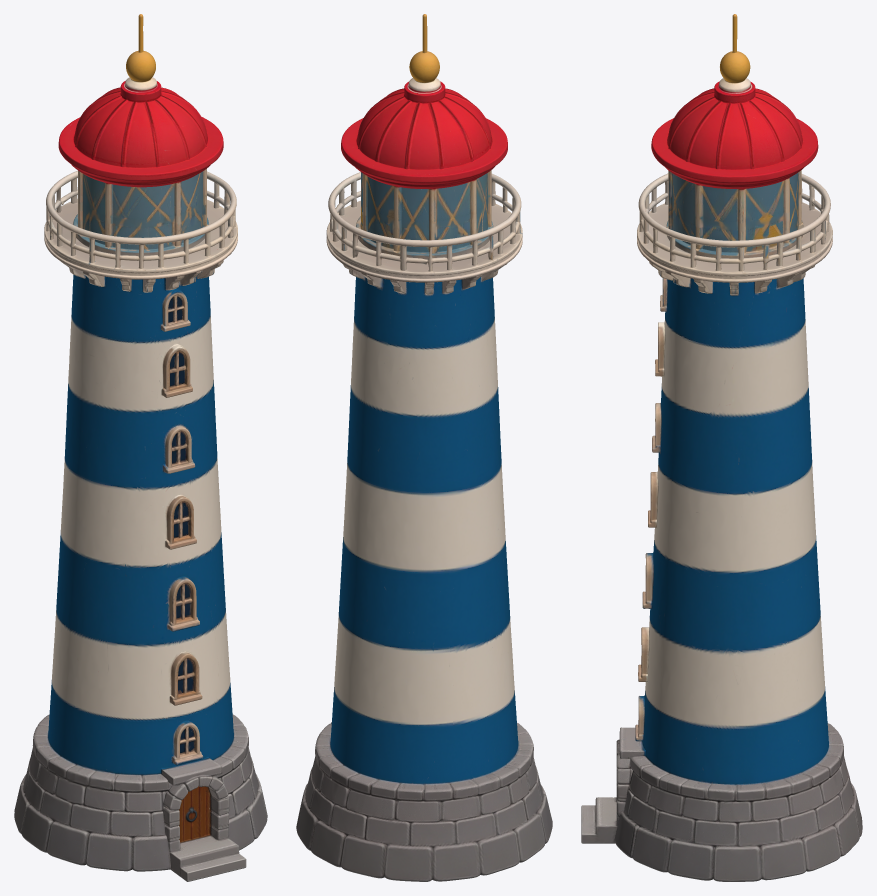
The model's file is lighthouse-tall-01.glb.
3 views of the same model, side by side, from view 1: azimuth 30°, elevation 25°; view 2: azimuth 150°, elevation 25°; view 3: azimuth 270°, elevation 25° (orthographic).
Size of the model in its own units: 0.5405 by 1.9 by 0.5949.
1 material, 1 textured.
